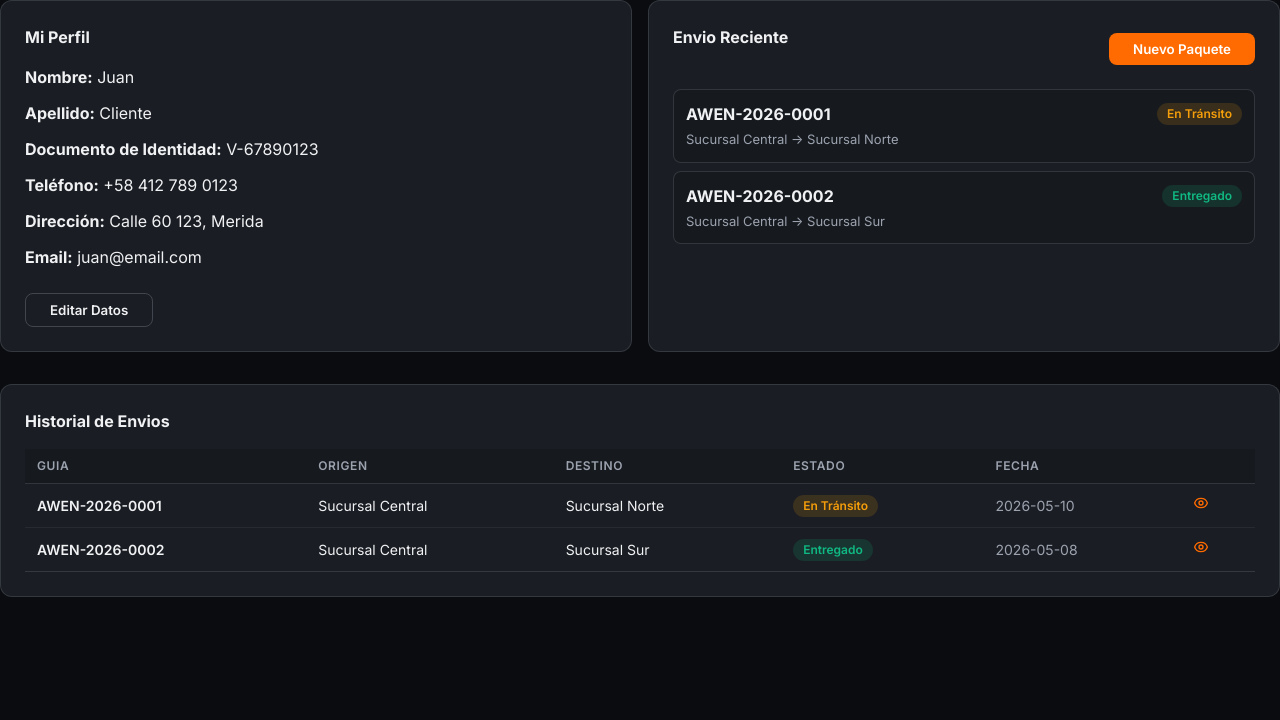
Test: ClientProfile › abre el tracking de una encomienda y muestra el comprobante
The width and height of the screenshot is (1280, 720).
Expected: the heading "Historial de Envios" is shown, [25,411,170,431]
Step 1. Click the text "AWEN-2026-0001" → coordinates (758, 114), box [686,102,830,126]
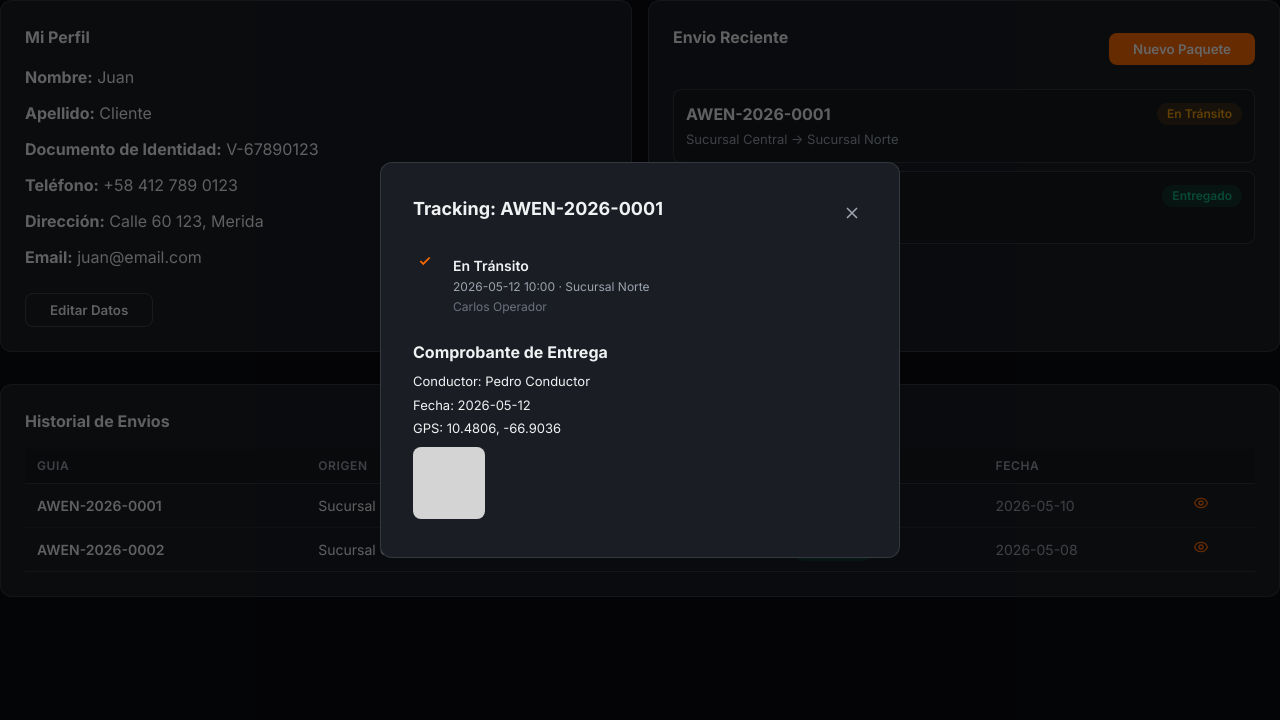
Result: the heading "Tracking: AWEN-2026-0001" is shown at [413,195,663,222]
Result: the text "En Tránsito" is shown at [453,257,529,274]
Result: the heading "Comprobante de Entrega" is shown at [413,342,608,362]
